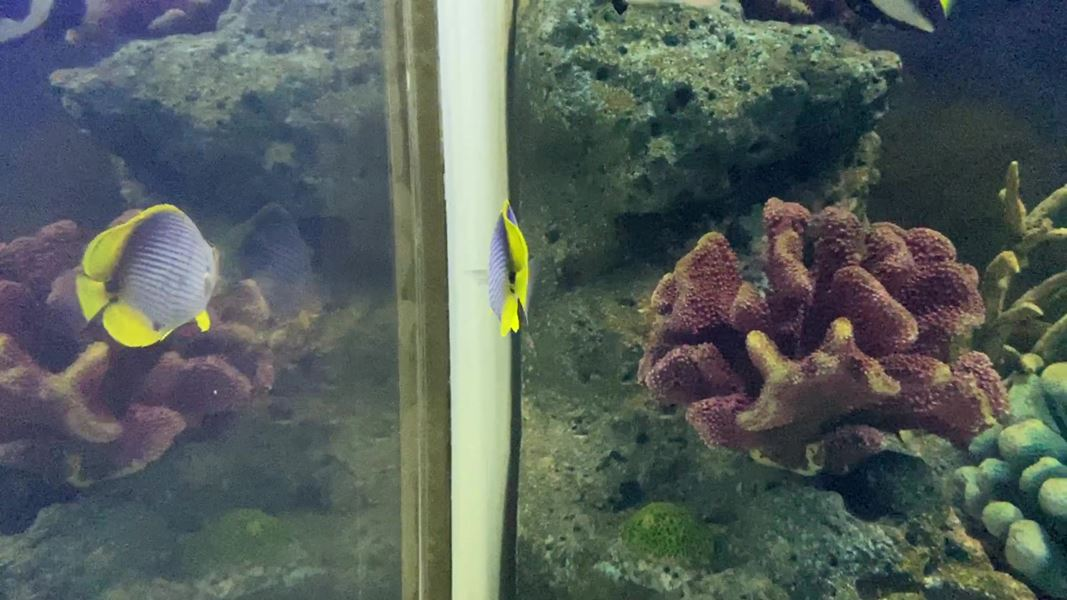Black-backed butterflyfish: (460, 194, 552, 346)
